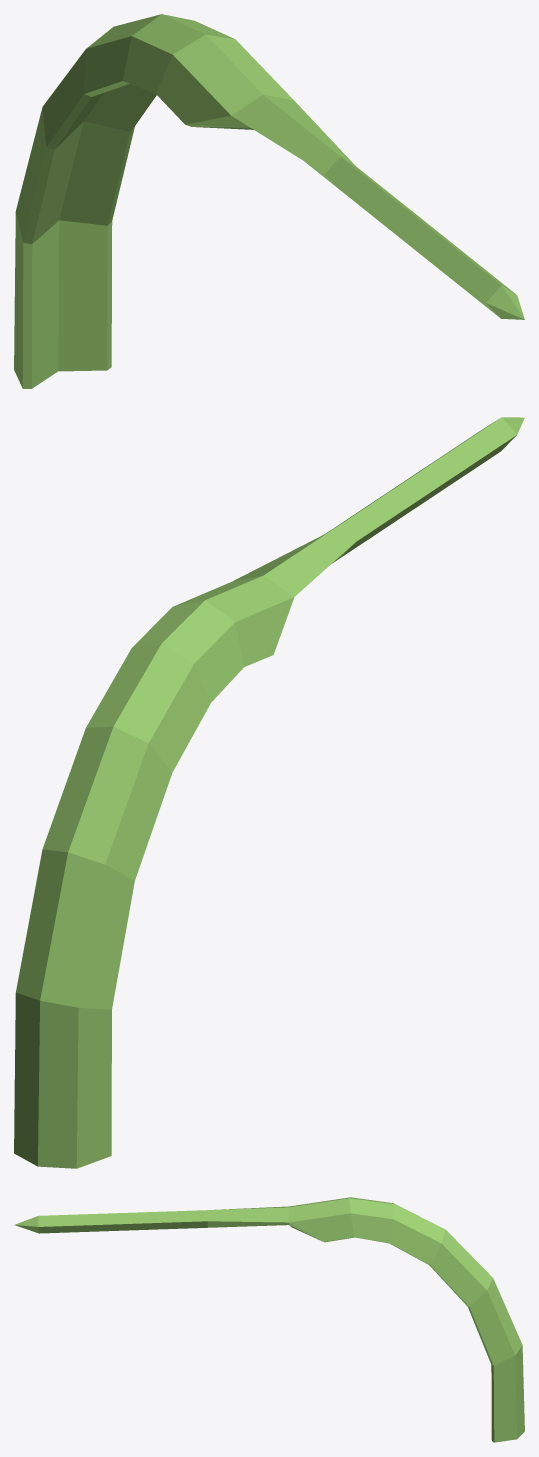
The model's file is stm_env_VFT_Stem-003.fbx.
The picture shows the model from 3 angles, top to bottom: view 1: azimuth 30°, elevation 25°; view 2: azimuth 150°, elevation 25°; view 3: azimuth 270°, elevation 25°; orthographic projection. The views are drawn at different scales.
Visible parts, largest first — view 1: stm_env_VFT_Stem_003; view 2: stm_env_VFT_Stem_003; view 3: stm_env_VFT_Stem_003.
Part boxes in pixels (x1,y1,x2,y2): stm_env_VFT_Stem_003: (14, 14, 524, 388); stm_env_VFT_Stem_003: (14, 417, 524, 1168); stm_env_VFT_Stem_003: (14, 1197, 524, 1442).
Bounding box in the file's own units: 60 × 287 × 570.
